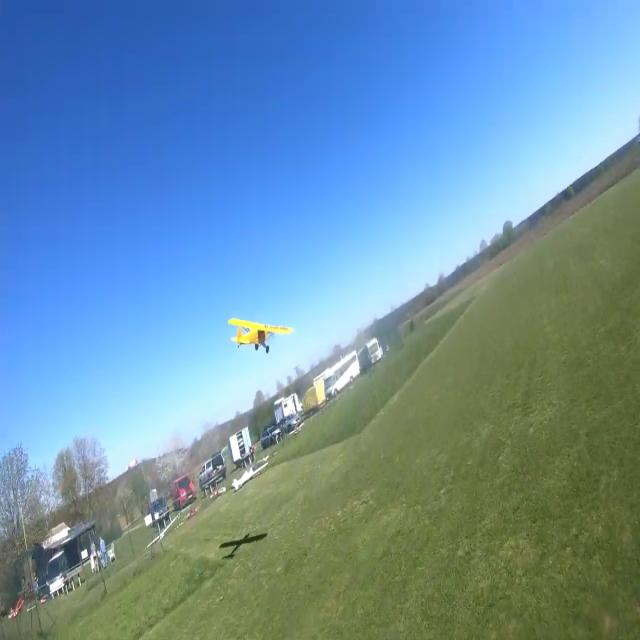iha: (260, 317, 262, 353)
